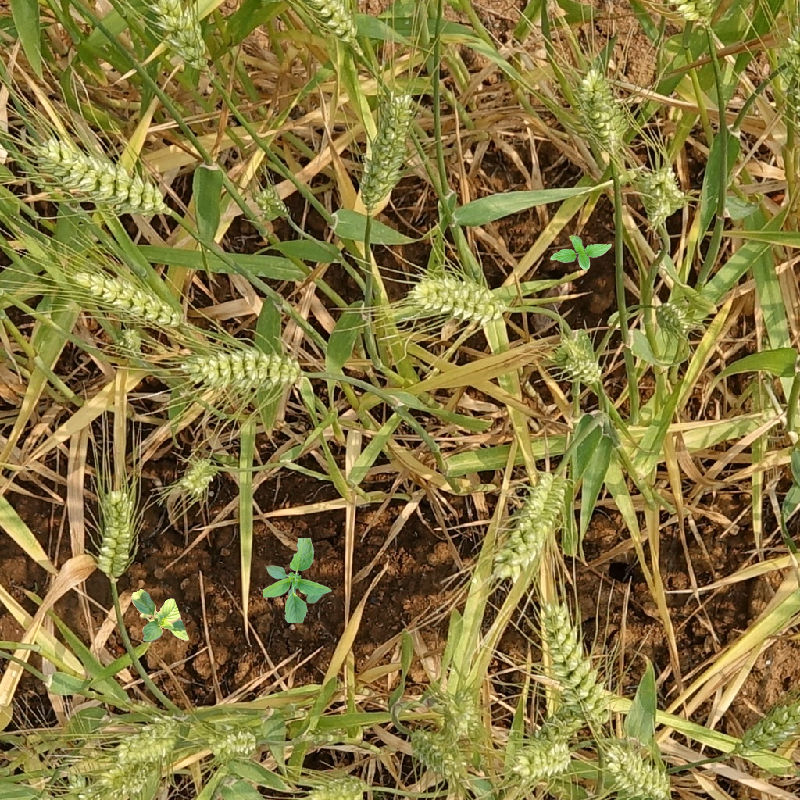spikelet: (29, 133, 170, 219), (490, 465, 571, 579), (535, 600, 608, 718), (355, 87, 419, 212), (67, 264, 186, 329), (177, 342, 304, 394), (407, 269, 507, 323), (573, 62, 629, 155), (141, 1, 212, 73), (91, 482, 138, 581), (113, 709, 191, 765), (733, 693, 800, 758), (603, 743, 674, 800), (406, 725, 468, 781), (635, 162, 686, 228), (293, 1, 362, 48), (554, 326, 606, 386), (76, 761, 157, 799), (510, 734, 573, 782), (524, 467, 569, 527), (437, 681, 481, 736), (206, 721, 262, 764), (296, 769, 368, 799), (777, 28, 800, 120), (176, 453, 220, 499), (653, 296, 696, 338), (253, 182, 291, 223), (667, 1, 717, 28), (113, 324, 145, 358)
weed: (263, 538, 332, 623), (126, 579, 190, 656), (550, 235, 612, 271)
